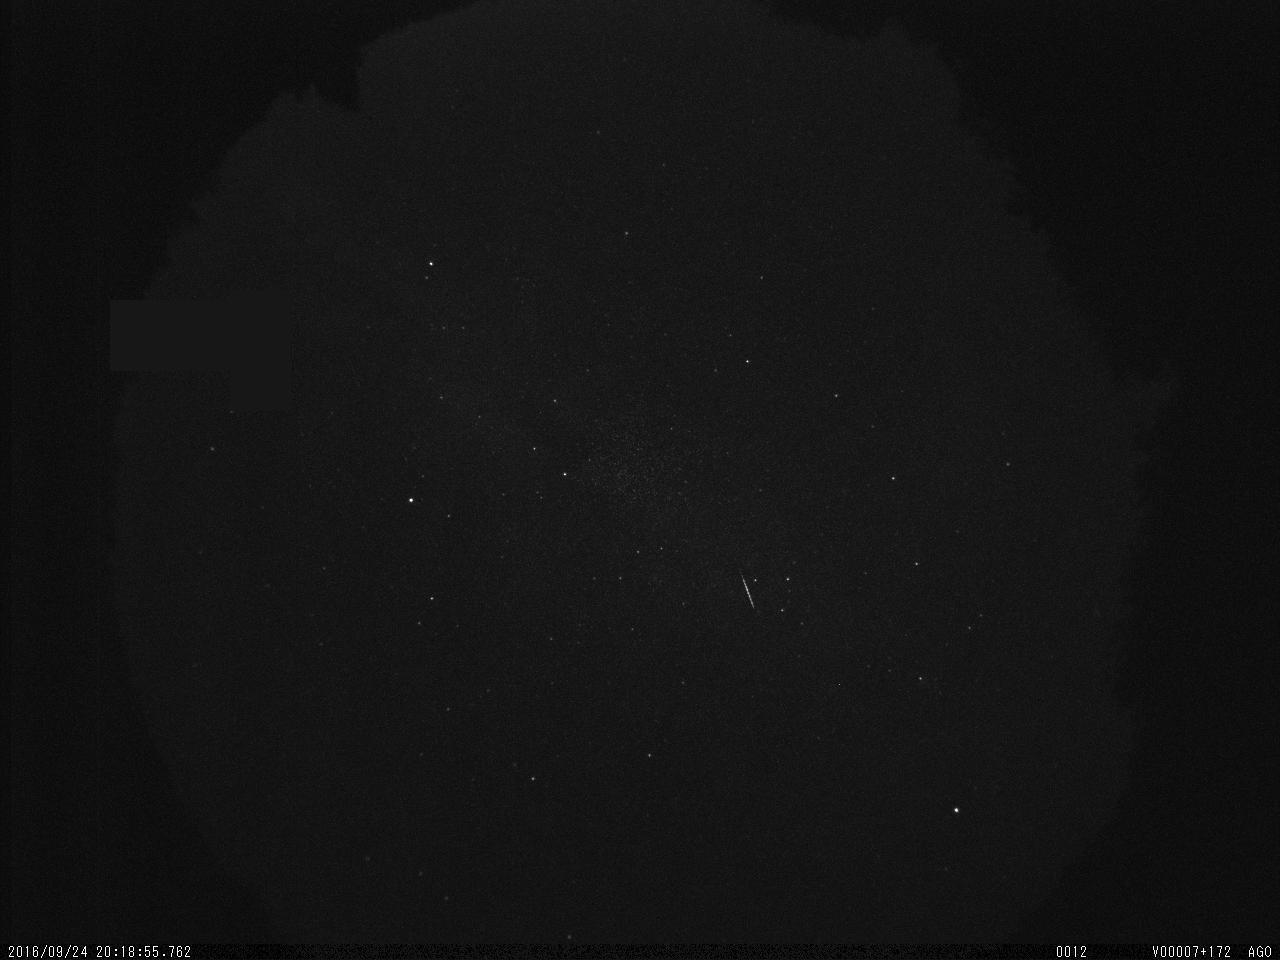meteor: (726, 555, 768, 621)
